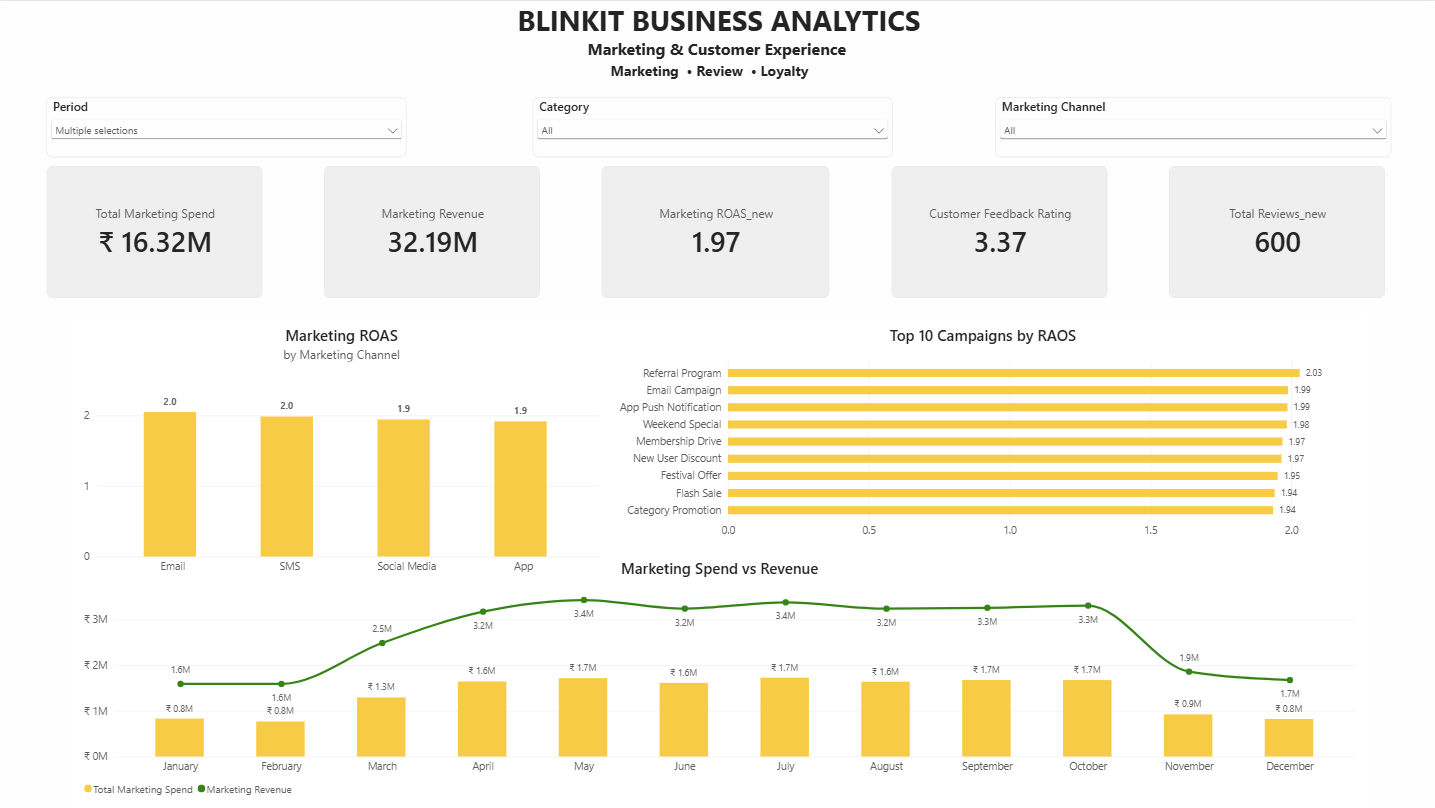

What the dashboard file says about the page in this screenshot:
{"tool":"powerbi","page":{"name":"Marketing and Customer Experience","canvas":[1920,1080],"ordinal":3},"visuals":[{"type":"textbox","box":[0,0,1920,80],"z":0},{"type":"textbox","box":[0,48,1920,64],"z":1000},{"type":"textbox","box":[0,80,1920,64],"z":2000},{"type":"slicer","fields":{"Values":["Date_Table.Month Year"]},"box":[64,128,480,80],"z":3000},{"type":"slicer","fields":{"Values":["blinkit_products.Category"]},"box":[712,128,480,80],"z":4000},{"type":"slicer","fields":{"Values":["blinkit_marketing_performance.channel"]},"box":[1328,128,528,80],"z":5000},{"type":"cardVisual","fields":{"Data":["blinkit_marketing_performance.Total Marketing Spend"]},"box":[64,219.2,288,176],"z":6000},{"type":"cardVisual","fields":{"Data":["blinkit_marketing_performance.Marketing Revenue"]},"box":[434,219.2,288,176],"z":7000},{"type":"cardVisual","fields":{"Data":["blinkit_marketing_performance.Marketing ROAS_new"]},"box":[804,219.2,304,176],"z":8000},{"type":"cardVisual","fields":{"Data":["blinkit_marketing_performance.Customer Feedback Rating"]},"box":[1190,219.2,288,176],"z":9000},{"type":"cardVisual","fields":{"Data":["blinkit_marketing_performance.Total Reviews_new"]},"box":[1560,219.2,288,176],"z":10000},{"type":"lineClusteredColumnComboChart","title":"Marketing Spend vs Revenue","fields":{"Category":["blinkit_marketing_performance.date.Variation.Date Hierarchy.Year","blinkit_marketing_performance.date.Variation.Date Hierarchy.Month"],"Y":["blinkit_marketing_performance.Total Marketing Spend"],"Y2":["blinkit_marketing_performance.Marketing Revenue"]},"box":[96,728,1728,352],"z":11000},{"type":"barChart","title":"Top 10 Campaigns by RAOS","fields":{"Category":["blinkit_marketing_performance.campaign_name"],"Y":["blinkit_marketing_performance.Marketing ROAS_new"]},"box":[800,416,1024,320],"z":12000},{"type":"clusteredColumnChart","title":"Marketing ROAS","fields":{"Category":["blinkit_marketing_performance.Marketing Channel"],"Y":["blinkit_marketing_performance.Marketing ROAS_new"]},"box":[96,416,720,368],"z":14000}]}

Visuals, with their boxes in screenshot pixels (x1, y1, x2, y2), scaled from the page's 1920x1080 canvas onto the 1435x808 screenshot:
textbox: [x1=0, y1=0, x2=1434, y2=60]
textbox: [x1=0, y1=36, x2=1434, y2=84]
textbox: [x1=0, y1=60, x2=1434, y2=108]
slicer - Date_Table.Month Year: [x1=48, y1=96, x2=407, y2=156]
slicer - blinkit_products.Category: [x1=532, y1=96, x2=891, y2=156]
slicer - blinkit_marketing_performance.channel: [x1=993, y1=96, x2=1387, y2=156]
cardVisual - blinkit_marketing_performance.Total Marketing Spend: [x1=48, y1=164, x2=263, y2=296]
cardVisual - blinkit_marketing_performance.Marketing Revenue: [x1=324, y1=164, x2=540, y2=296]
cardVisual - blinkit_marketing_performance.Marketing ROAS_new: [x1=601, y1=164, x2=828, y2=296]
cardVisual - blinkit_marketing_performance.Customer Feedback Rating: [x1=889, y1=164, x2=1105, y2=296]
cardVisual - blinkit_marketing_performance.Total Reviews_new: [x1=1166, y1=164, x2=1381, y2=296]
"Marketing Spend vs Revenue" lineClusteredColumnComboChart: [x1=72, y1=545, x2=1363, y2=807]
"Top 10 Campaigns by RAOS" barChart: [x1=598, y1=311, x2=1363, y2=551]
"Marketing ROAS" clusteredColumnChart: [x1=72, y1=311, x2=610, y2=587]
